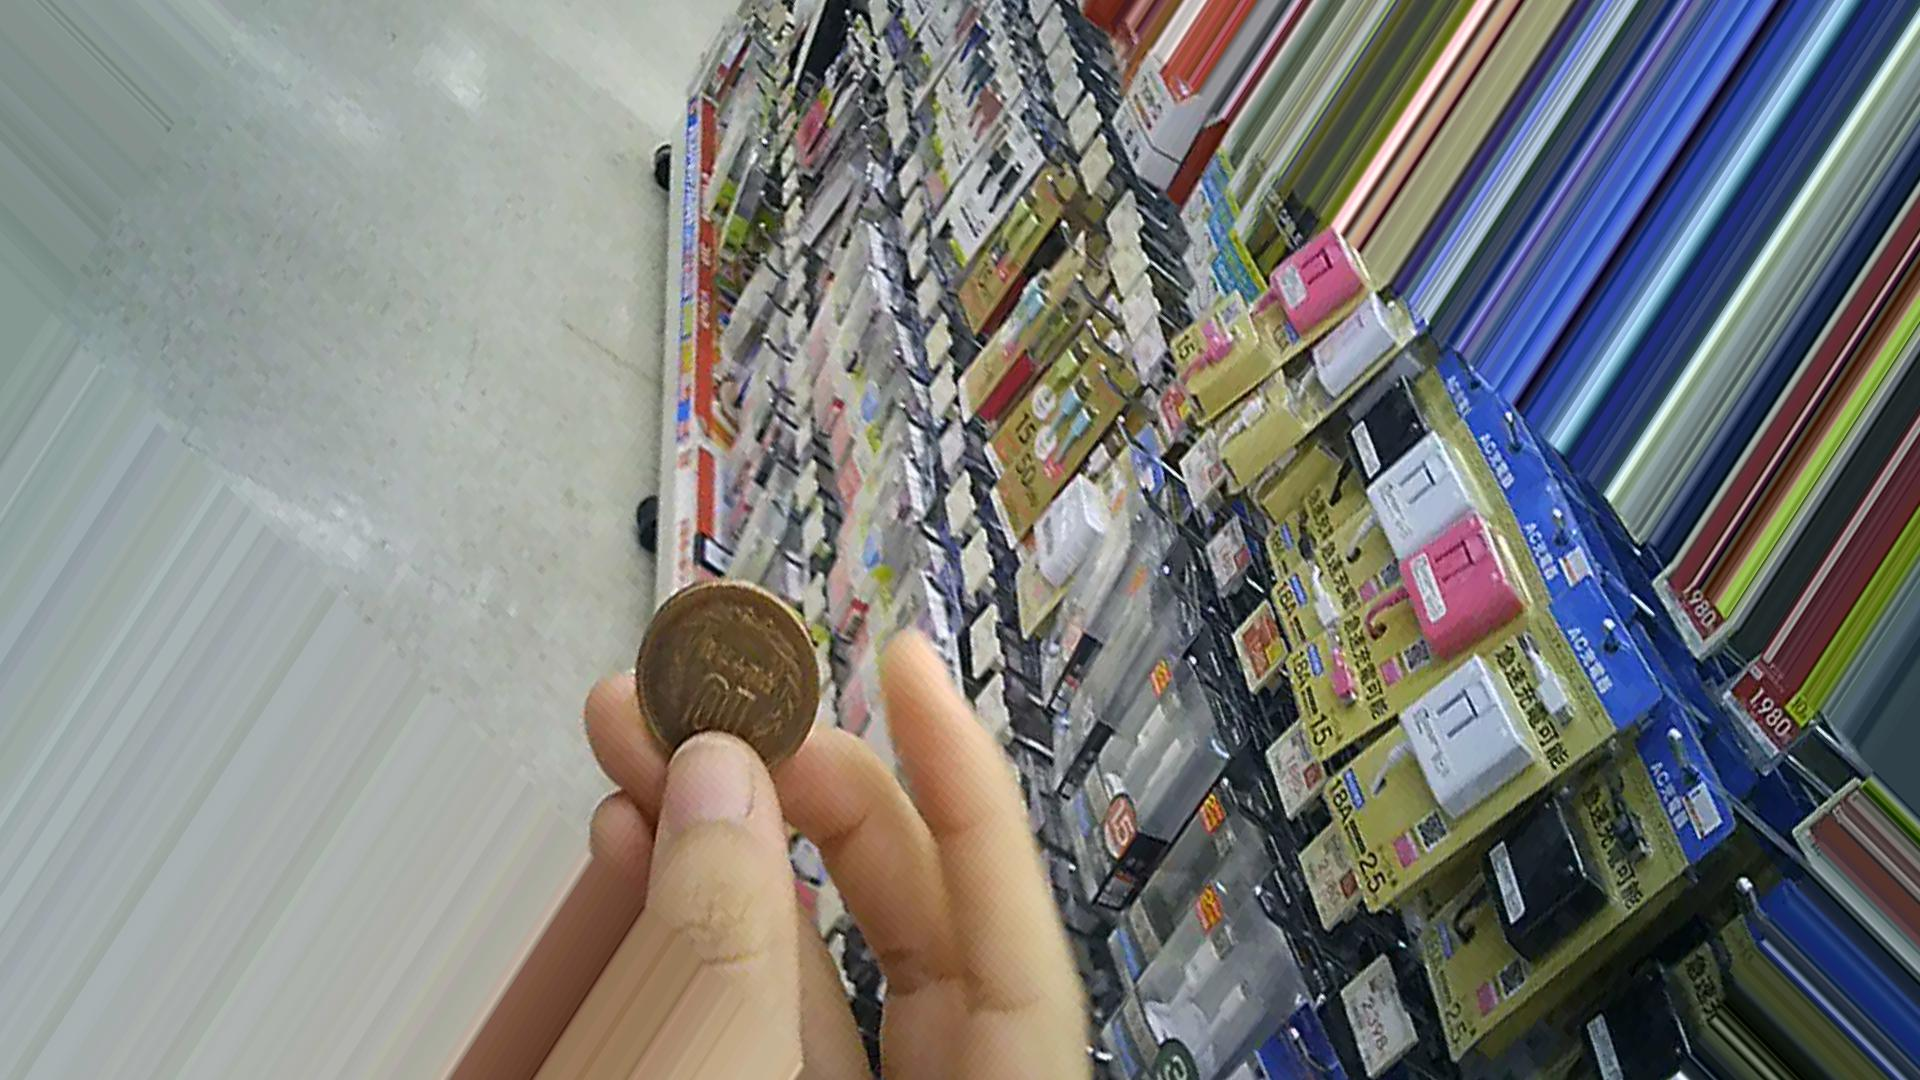10 Yen: (629, 568, 825, 785)
